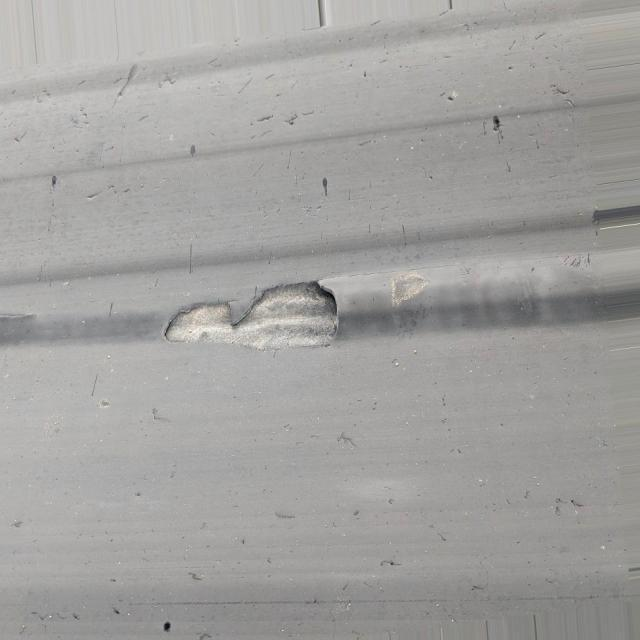Impact Damage: (159, 276, 344, 358)
Puncture: (484, 114, 512, 134), (156, 615, 178, 634), (48, 175, 65, 190)
